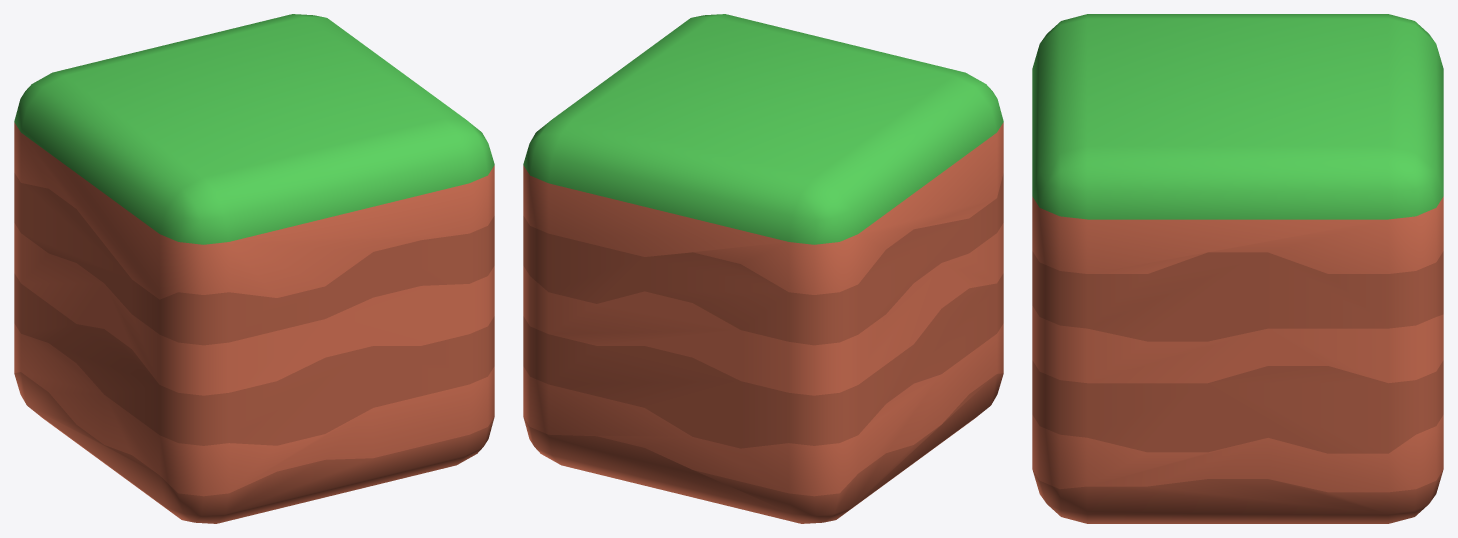
The model's file is Stone029.fbx.
3 renders of one model, left to right at view 1: azimuth 30°, elevation 25°; view 2: azimuth 150°, elevation 25°; view 3: azimuth 270°, elevation 25°, orthographic. The views are drawn at different scales.
Visible parts, largest first — view 1: Stone029; view 2: Stone029; view 3: Stone029.
Part boxes in pixels (bbox=[...]): Stone029: bbox=[14, 14, 494, 523]; Stone029: bbox=[523, 14, 1003, 523]; Stone029: bbox=[1032, 14, 1443, 523].
Bounding box in the file's own units: 156 × 156 × 156.
